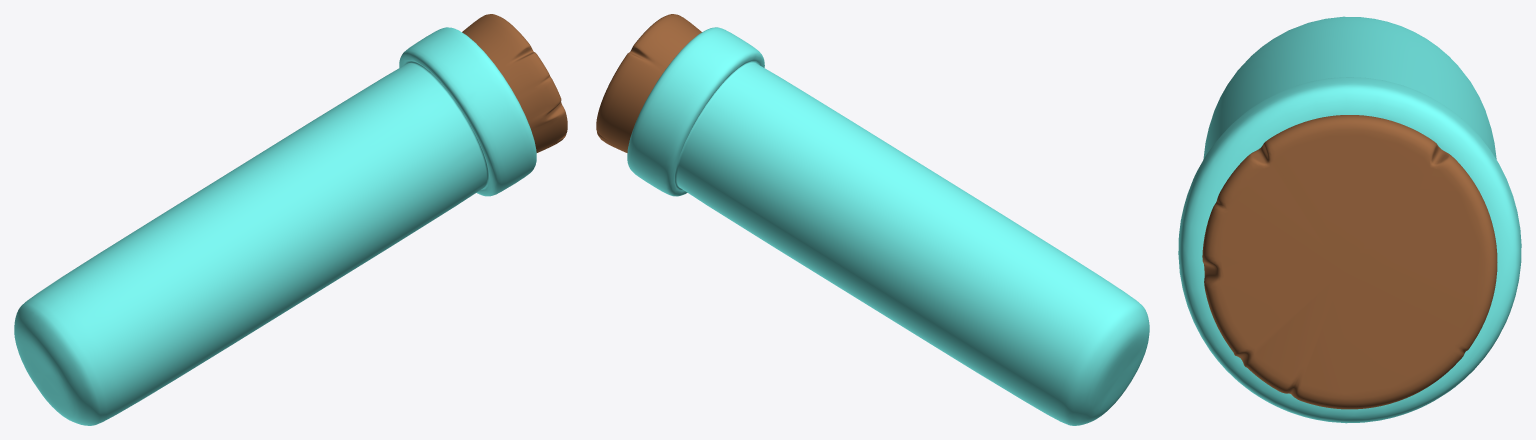
The model's file is Suor_de_Grifo.fbx.
3 renders of one model, left to right at view 1: azimuth 30°, elevation 25°; view 2: azimuth 150°, elevation 25°; view 3: azimuth 270°, elevation 25°, orthographic. The views are drawn at different scales.
Visible parts, largest first — view 1: Suor de Grifo - Low; view 2: Suor de Grifo - Low; view 3: Suor de Grifo - Low.
Boxes of the visible parts, x1,y1,x2,y2 form: Suor de Grifo - Low: [14, 14, 567, 425]; Suor de Grifo - Low: [596, 14, 1149, 425]; Suor de Grifo - Low: [1178, 16, 1521, 423].
Size of the model in its own units: 154 by 84.23 by 44.19.
